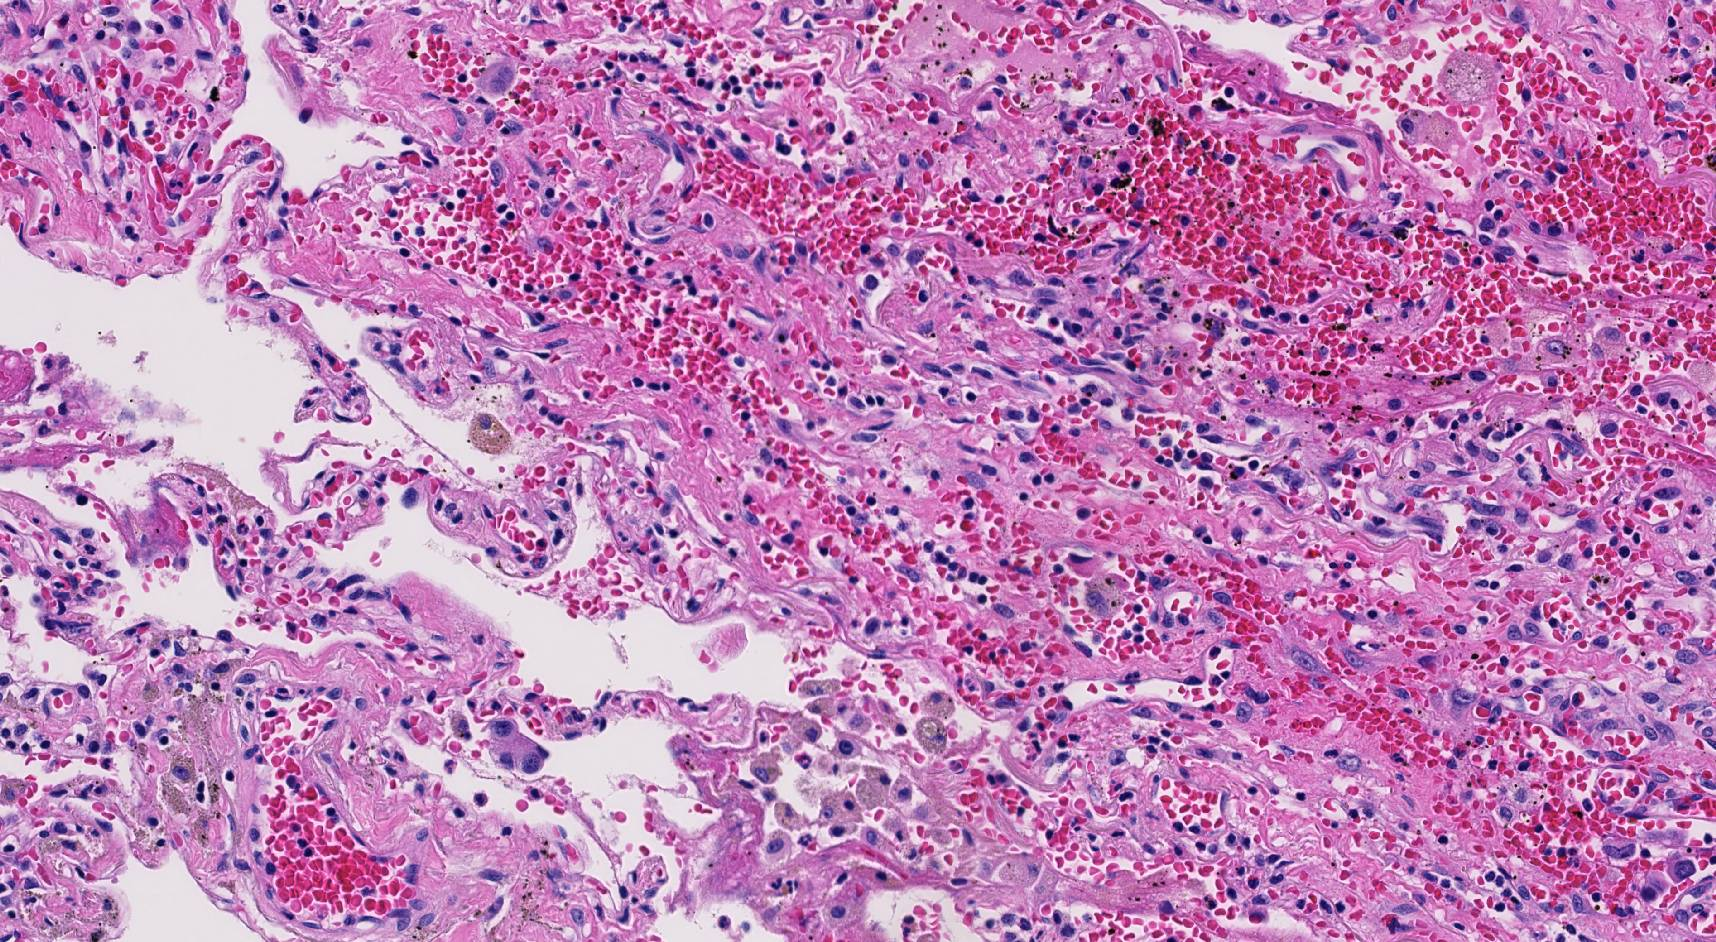stas: (486, 717, 552, 773)
